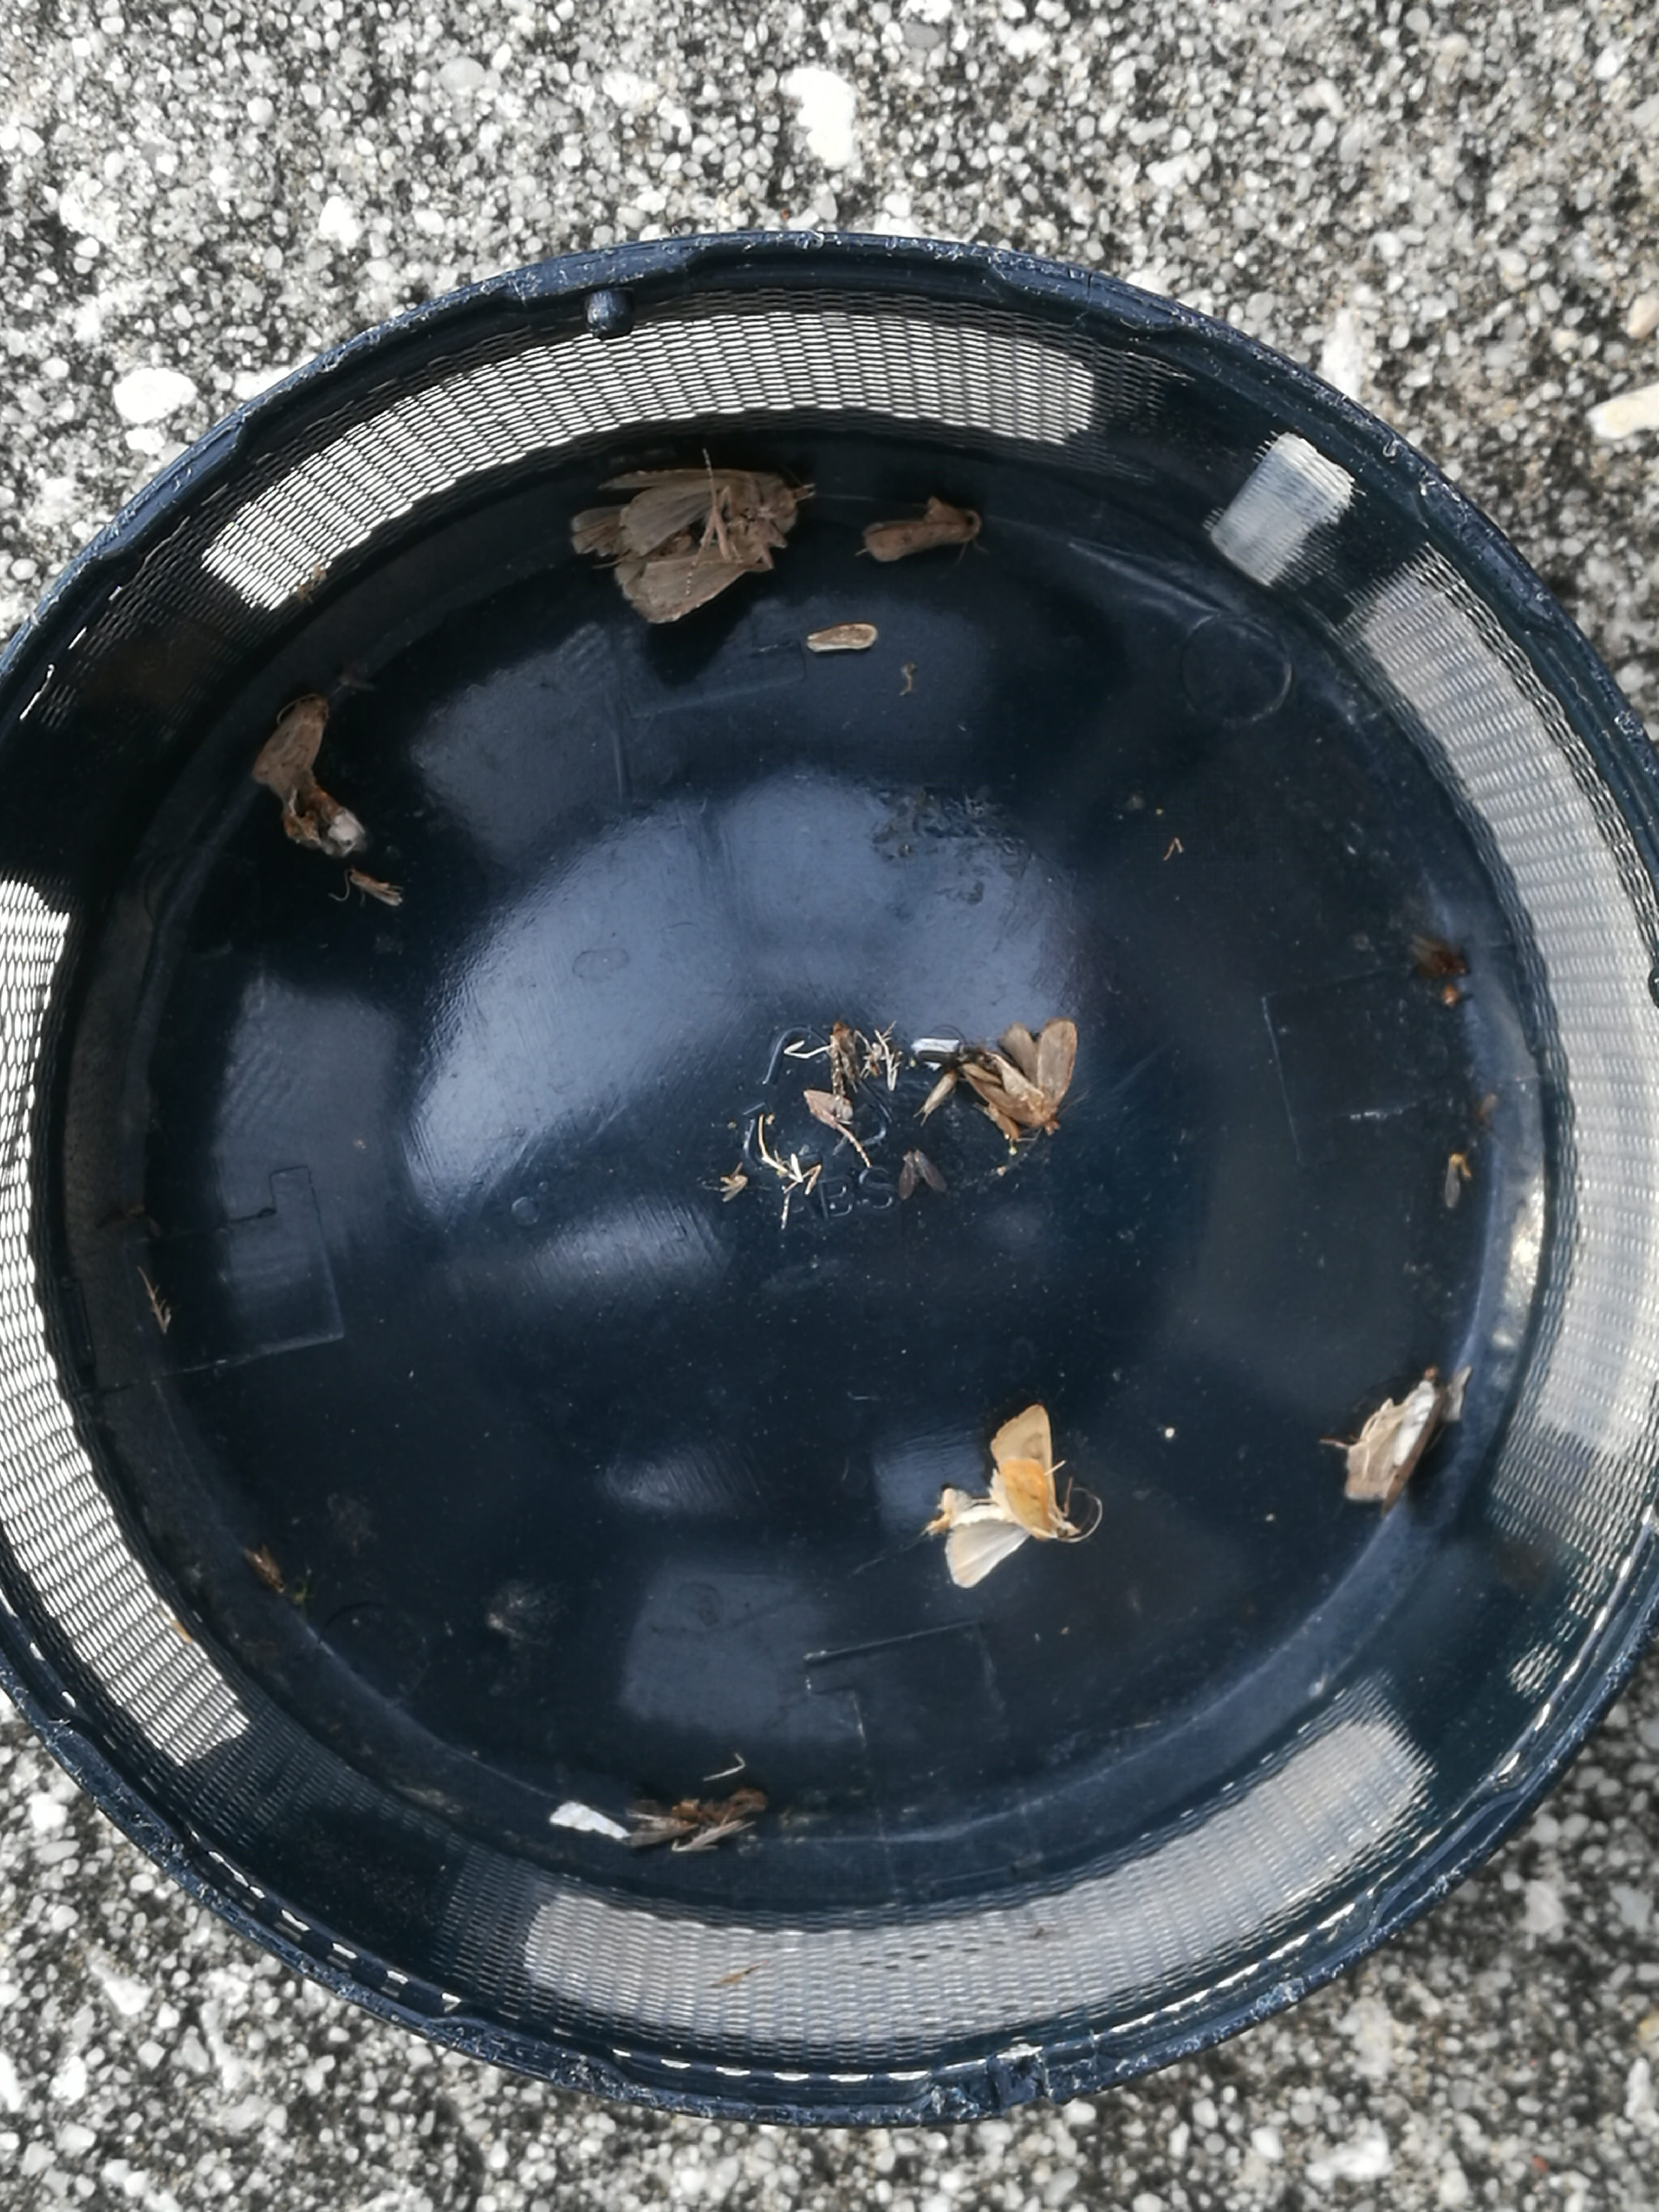moth: (573, 472, 802, 613), (946, 1407, 1075, 1590), (1344, 1378, 1445, 1514), (964, 1019, 1079, 1132), (253, 693, 331, 806), (863, 495, 981, 559)
